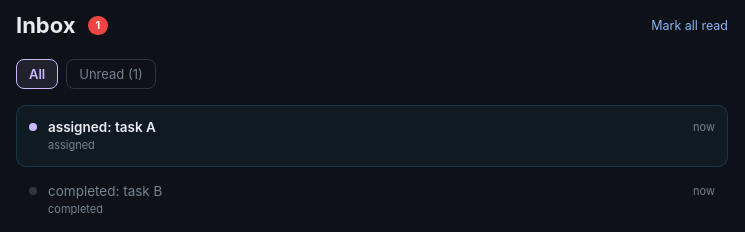
Scenario: Inbox page › unread filter hides read notifications
Expected: the text "assigned: task A" is shown, [48, 119, 156, 135]
Click the button "Unread (1)" at (111, 74), box [66, 59, 156, 89]
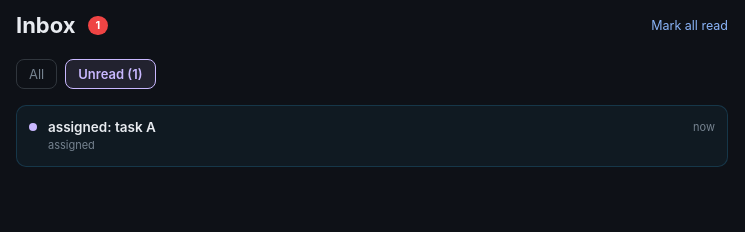
Expected: the text "assigned: task A" is shown, [48, 119, 156, 135]
Result: the text "completed: task B" is gone
